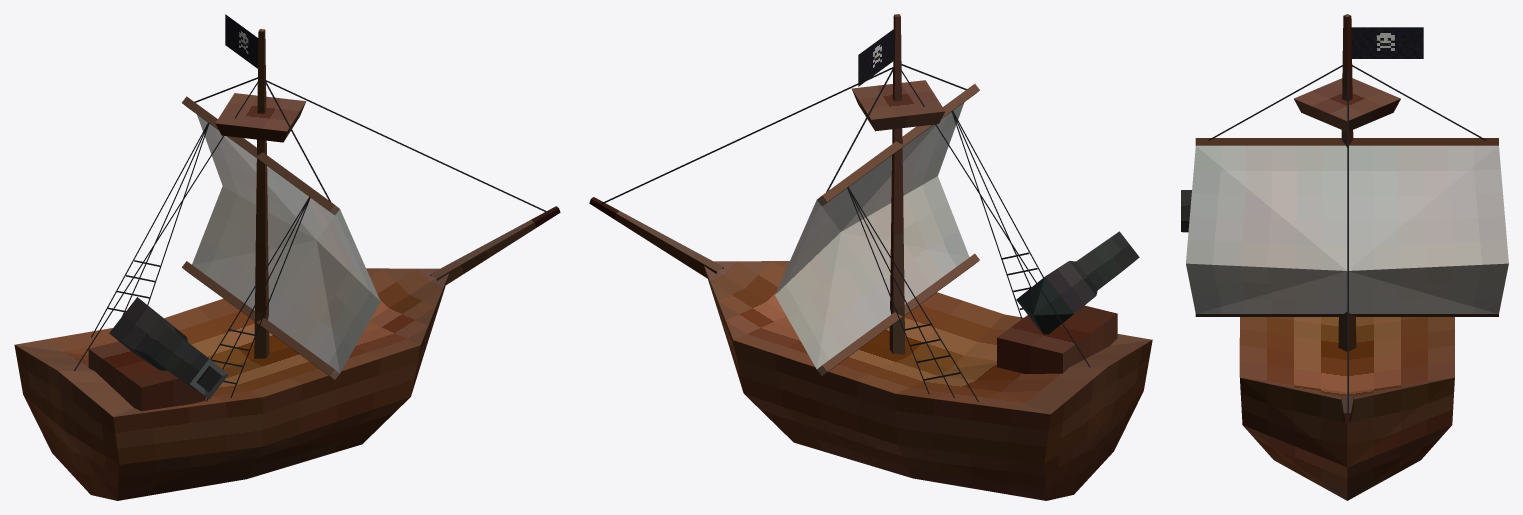
Rendered from ship.gltf.
3 views of the same model, side by side, from view 1: azimuth 30°, elevation 25°; view 2: azimuth 150°, elevation 25°; view 3: azimuth 270°, elevation 25° (orthographic). The views are drawn at different scales.
Bounding box in the file's own units: 2.5 × 2.05 × 1.38.
1 material, 1 textured.
